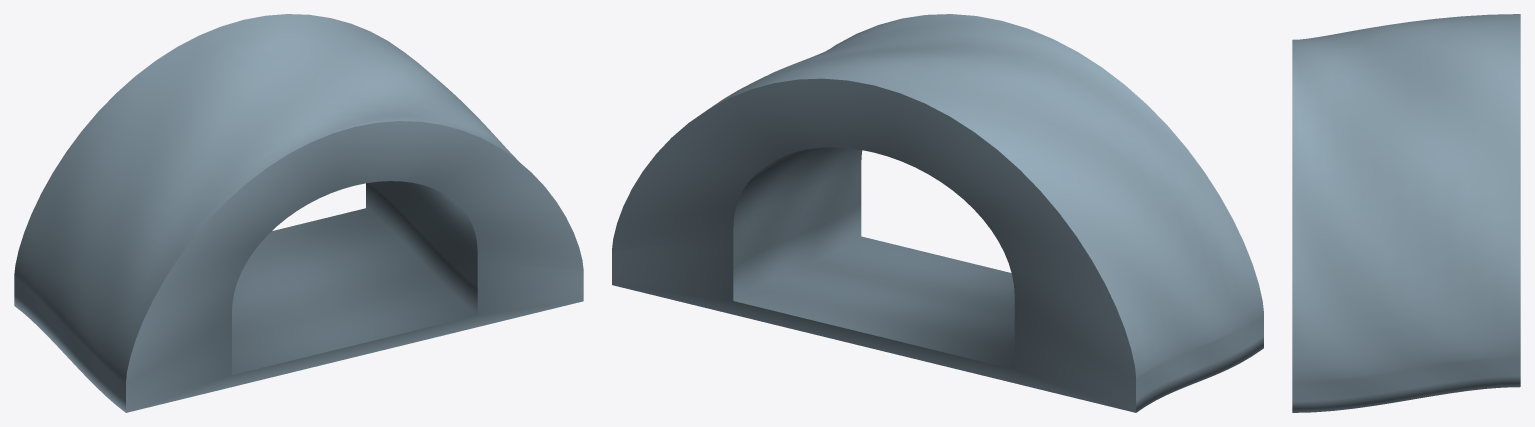
File: grade_up_terrain.glb
The picture shows the model from 3 angles, left to right: view 1: azimuth 30°, elevation 25°; view 2: azimuth 150°, elevation 25°; view 3: azimuth 270°, elevation 25°; orthographic projection. The views are drawn at different scales.
Parts seen in each view (by area): view 1: TerrainRoof.012; view 2: TerrainRoof.012; view 3: TerrainRoof.012.
Boxes of the visible parts, box(x1,y1,x2,y2) form: TerrainRoof.012: box(14, 14, 583, 412); TerrainRoof.012: box(612, 14, 1263, 412); TerrainRoof.012: box(1292, 14, 1520, 412).
Size of the model in its own units: 28.4 by 15.15 by 12.
